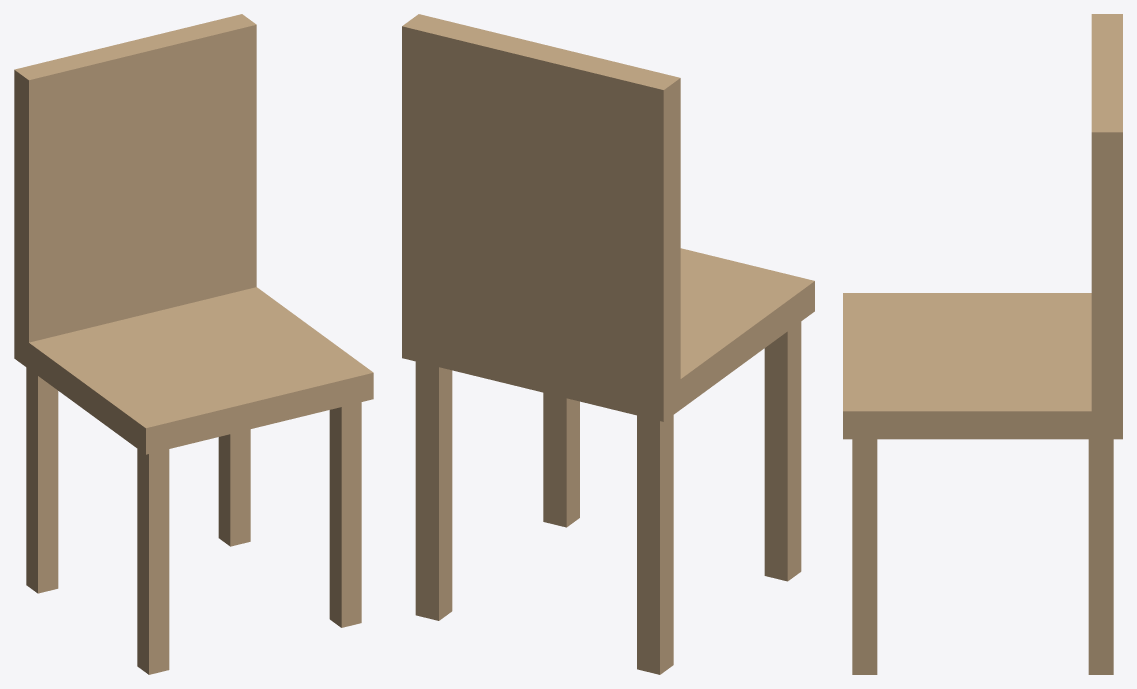
Rendered from fu_dining_chair.glb.
The picture shows the model from 3 angles, left to right: view 1: azimuth 30°, elevation 25°; view 2: azimuth 150°, elevation 25°; view 3: azimuth 270°, elevation 25°; orthographic projection. The views are drawn at different scales.
Visible parts, largest first — view 1: fu_dining_chair; view 2: fu_dining_chair; view 3: fu_dining_chair.
Boxes of the visible parts, left/top/right/bottom form: fu_dining_chair: left=14, top=14, right=373, bottom=674; fu_dining_chair: left=402, top=14, right=814, bottom=674; fu_dining_chair: left=843, top=14, right=1122, bottom=674.
Size of the model in its own units: 0.45 by 0.97 by 0.45.
